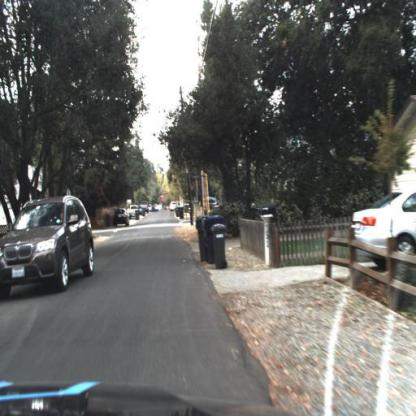car: (2, 198, 96, 295), (354, 185, 416, 268), (113, 206, 132, 232), (201, 196, 222, 211), (113, 210, 130, 226), (127, 204, 139, 220), (140, 201, 150, 215), (169, 202, 179, 212)
